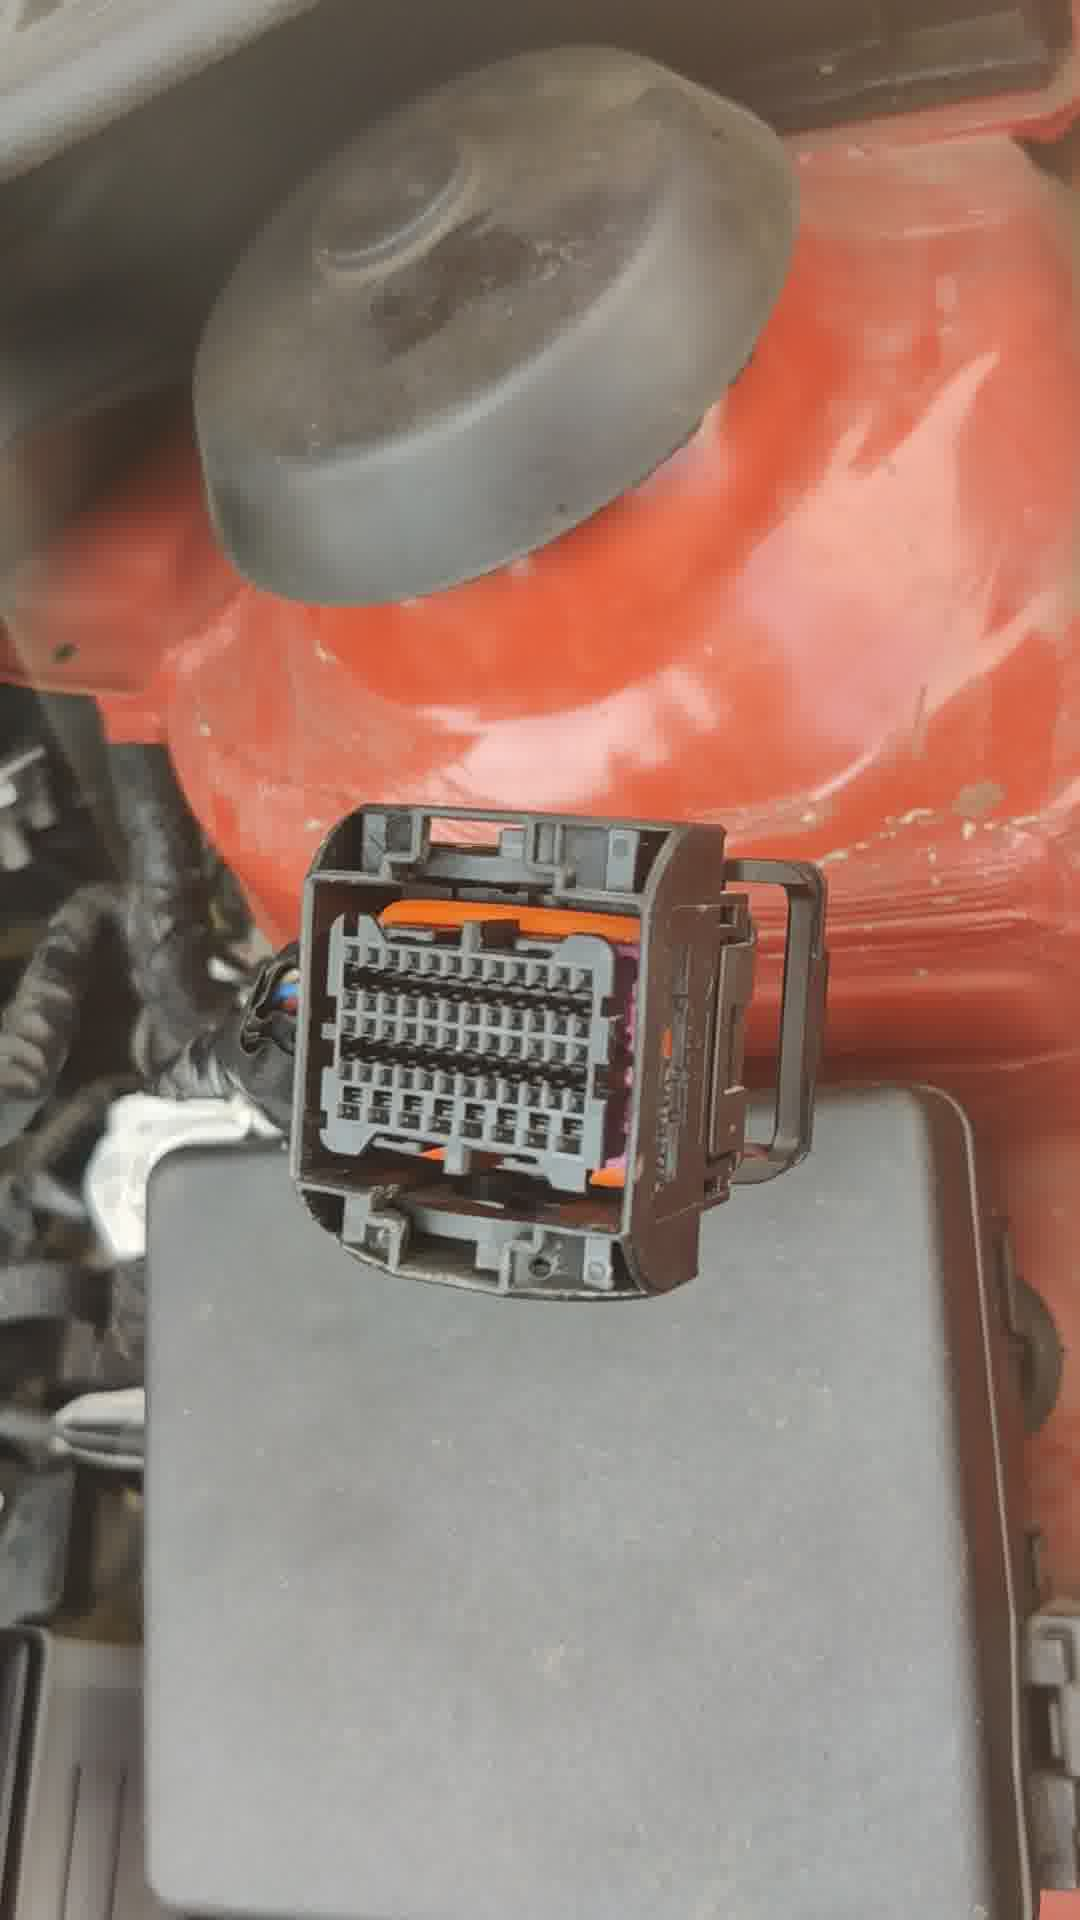connector: (289, 790, 748, 1307)
